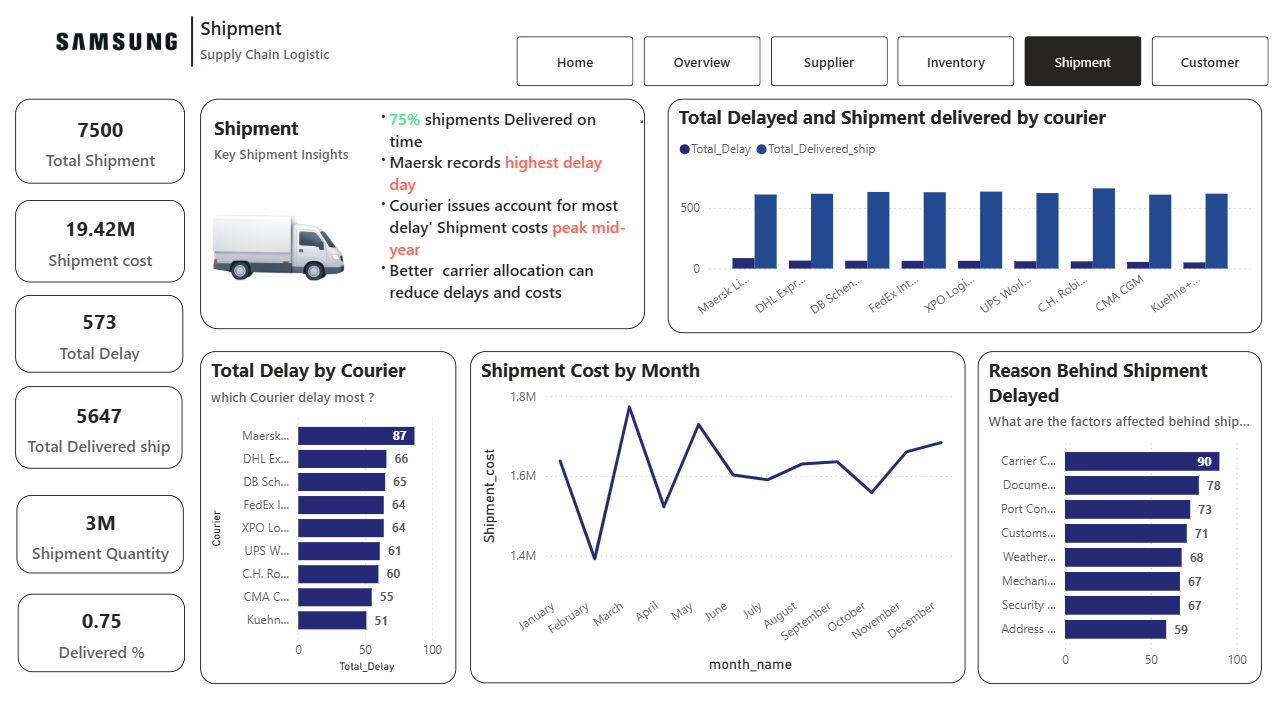

Layout of this report page (visuals, bound fields, positions):
{"tool":"powerbi","page":{"name":"Shipment","canvas":[1280,720],"ordinal":4},"visuals":[{"type":"shape","box":[201.7,98.8,444.6,230.5],"z":0},{"type":"actionButton","box":[637,103.3,10.2,35.7],"z":1000},{"type":"shape","title":"Shipment","box":[201.7,15.3,235.1,71],"z":2000},{"type":"shape","box":[16.9,15.7,351.1,50.7],"z":3000},{"type":"card","fields":{"Values":["MeasuresTable.Total_Delay"]},"box":[16.7,295,168.3,77.9],"z":4000},{"type":"card","fields":{"Values":["Cost_QTS_Suppliers.Total_Delivered_ship"]},"box":[16.7,386.8,167,82.1],"z":5000},{"type":"card","fields":{"Values":["MeasuresTable.Total_Shipment_Quantity"]},"box":[17.1,495.2,167.5,78.3],"z":6000},{"type":"card","fields":{"Values":["Cost_QTS_Suppliers.Shipment_cost"]},"box":[16.7,200.3,169.7,82.1],"z":7000},{"type":"card","fields":{"Values":["MeasuresTable.Total_Shipment"]},"box":[16.7,98.8,169.7,84.9],"z":8000},{"type":"barChart","title":"Total Delay by Courier","fields":{"Y":["MeasuresTable.Total_Delay"],"Category":["fact_shipment.carrier"]},"box":[201.2,351.2,256.2,332.5],"z":9000},{"type":"card","fields":{"Values":["Cost_QTS_Suppliers.Delivered %"]},"box":[18.3,594.3,167.5,78.3],"z":10000},{"type":"image","box":[0,16.2,235,50],"z":11000},{"type":"pageNavigator","box":[517.3,36.7,753.3,50.1],"z":12000},{"type":"image","box":[201.7,188,152.3,108.4],"z":13000},{"type":"shape","title":"Shipment","box":[215,115,153.8,53.8],"z":14000},{"type":"clusteredColumnChart","title":"Total Delayed and Shipment delivered by courier","fields":{"Category":["fact_shipment.carrier"],"Y":["MeasuresTable.Total_Delay","Cost_QTS_Suppliers.Total_Delivered_ship"]},"box":[668.3,98.8,594.2,234.6],"z":15000},{"type":"lineChart","title":"Shipment Cost by Month","fields":{"Y":["Cost_QTS_Suppliers.Shipment_cost"],"Category":["dim_date.month_name"]},"box":[470.7,351.3,495.4,332.1],"z":16000},{"type":"barChart","title":"Reason Behind Shipment Delayed","fields":{"Y":["MeasuresTable.Total_Delay"],"Category":["fact_shipment.delay_reason"]},"box":[978.8,351.2,283.8,332.5],"z":17000},{"type":"textbox","box":[367.8,102.9,269,215.4],"z":18000}]}

Visuals, with their boxes in screenshot pixels (x1, y1, x2, y2), scaled from the page's 1280x720 canvas onto the 1276x717 screenshot:
shape: 201:98:644:328
actionButton: 635:103:645:138
"Shipment" shape: 201:15:435:86
shape: 17:16:367:66
card - MeasuresTable.Total_Delay: 17:294:184:371
card - Cost_QTS_Suppliers.Total_Delivered_ship: 17:385:183:467
card - MeasuresTable.Total_Shipment_Quantity: 17:493:184:571
card - Cost_QTS_Suppliers.Shipment_cost: 17:199:186:281
card - MeasuresTable.Total_Shipment: 17:98:186:183
"Total Delay by Courier" barChart: 201:350:456:681
card - Cost_QTS_Suppliers.Delivered %: 18:592:185:670
image: 0:16:234:66
pageNavigator: 516:37:1267:86
image: 201:187:353:295
"Shipment" shape: 214:115:368:168
"Total Delayed and Shipment delivered by courier" clusteredColumnChart: 666:98:1259:332
"Shipment Cost by Month" lineChart: 469:350:963:681
"Reason Behind Shipment Delayed" barChart: 976:350:1259:681
textbox: 367:102:635:317
